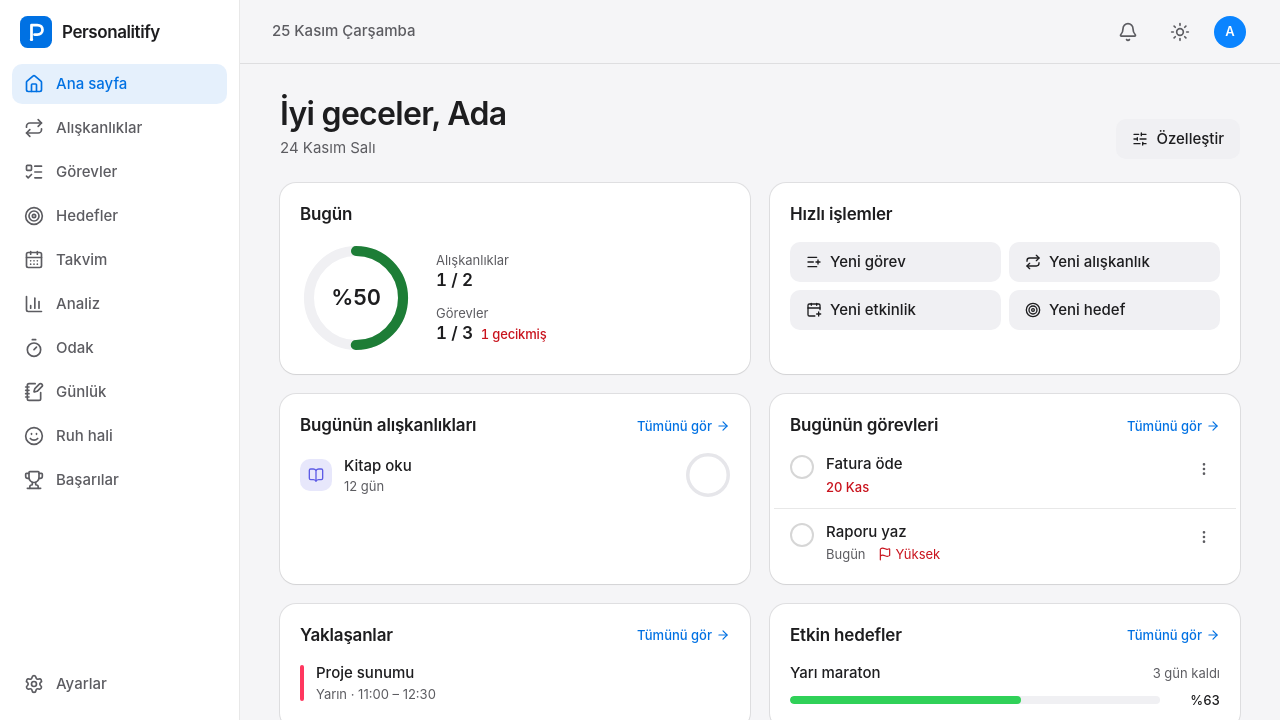
Test case: dashboard › completes a habit from the dashboard and refreshes the figures
This screenshot has width=1280, height=720.
Click the checkbox named "Kitap oku alışkanlığını tamamlandı" at (708, 475), box [686,453,730,497]
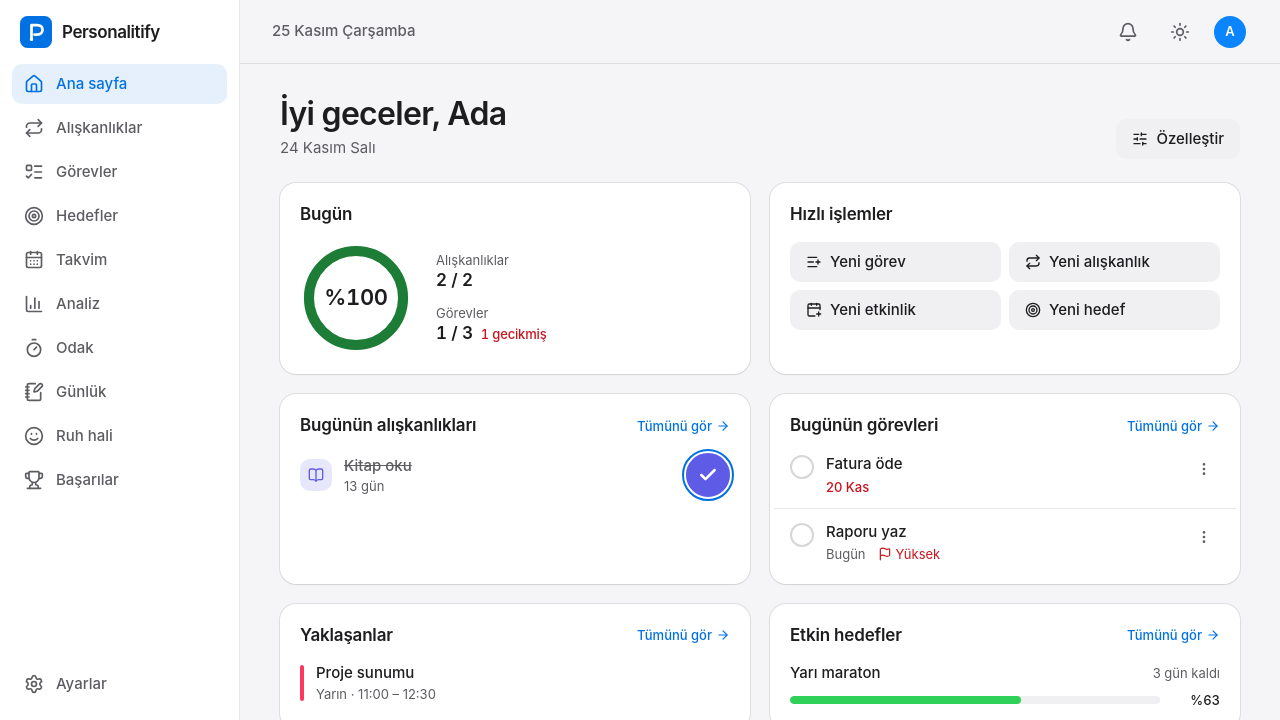
Now the text "%100" is shown, box [324,284,388,310]
